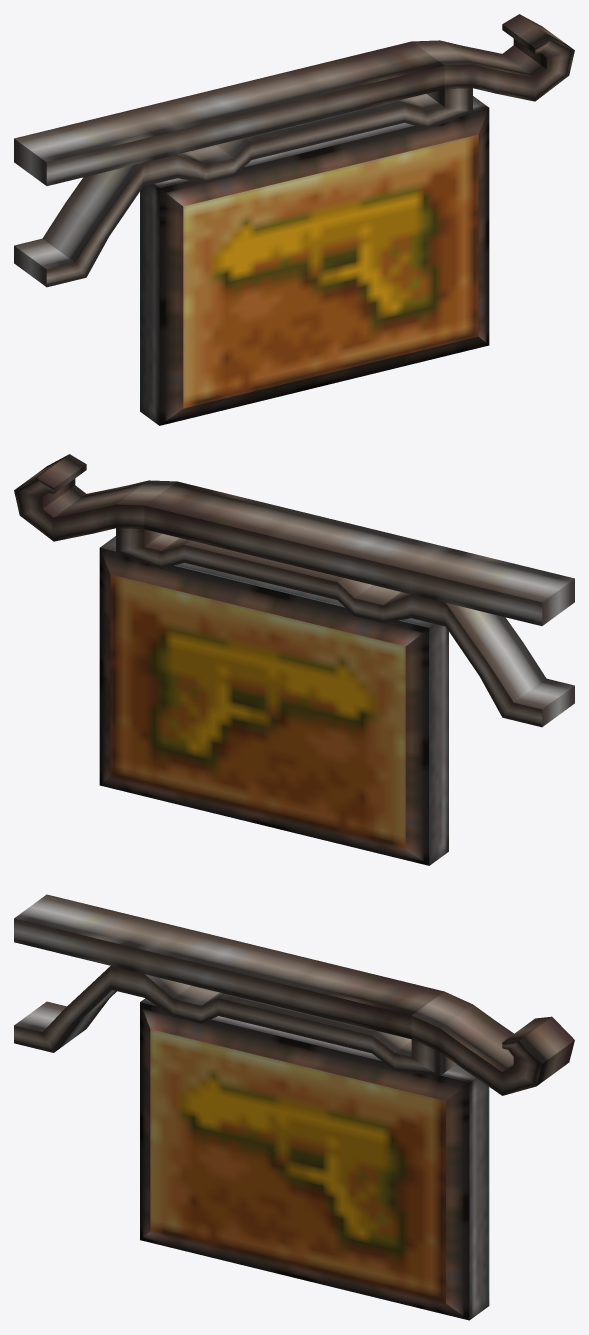
File: Poly_SF_Outside_B_Board_Sign_07.obj
3 renders of one model, top to bottom at view 1: azimuth 30°, elevation 25°; view 2: azimuth 150°, elevation 25°; view 3: azimuth 330°, elevation 25°, orthographic.
Parts seen in each view (by area): view 1: Cube, Cube.001; view 2: Cube, Cube.001; view 3: Cube, Cube.001.
Boxes of the visible parts, bbox=[...] form: Cube: bbox=[140, 96, 489, 425]; Cube.001: bbox=[14, 14, 574, 287]; Cube: bbox=[99, 536, 448, 865]; Cube.001: bbox=[14, 454, 574, 727]; Cube: bbox=[140, 998, 489, 1320]; Cube.001: bbox=[14, 894, 574, 1095].
Size of the model in its own units: 0.9295 by 0.5019 by 0.1.
1 material, 1 textured.
